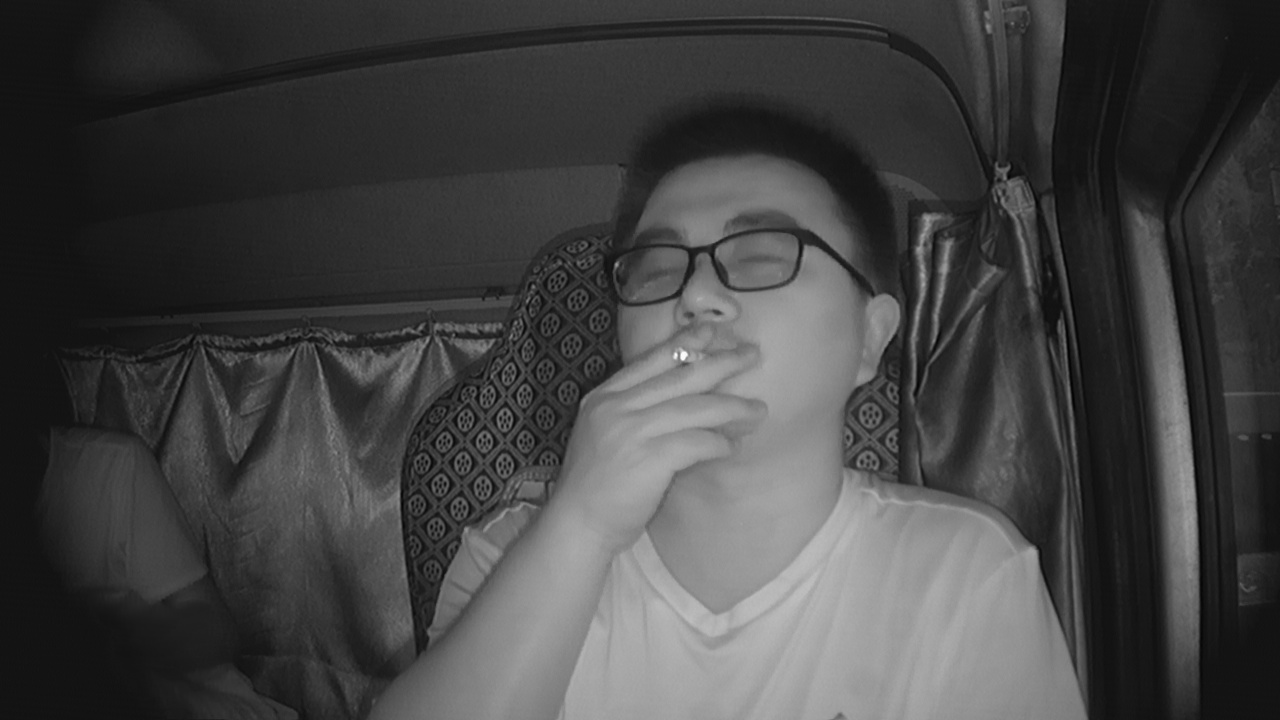hand: (582, 323, 756, 496)
